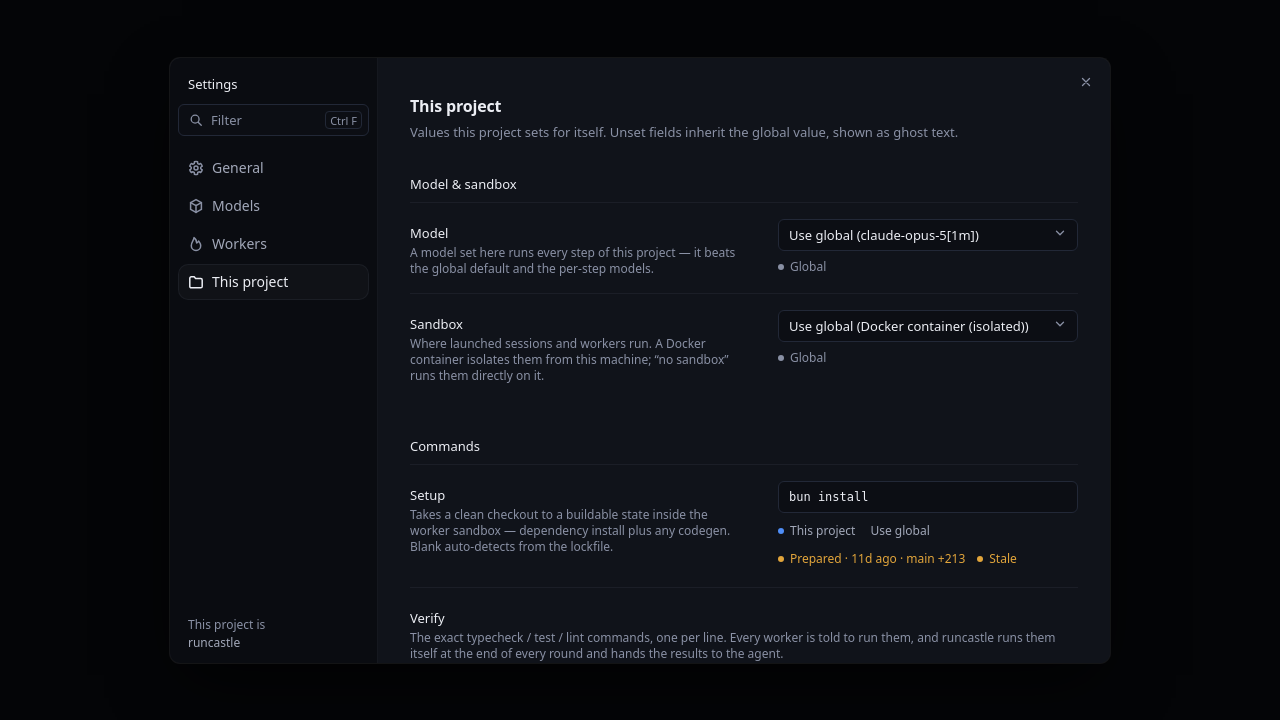
Settings — This project › filters this page and highlights the field a deep link named
Step 1. Type "verify" into the field named "Filter settings" → [264, 120], box x1=211 y1=105 x2=317 y2=135
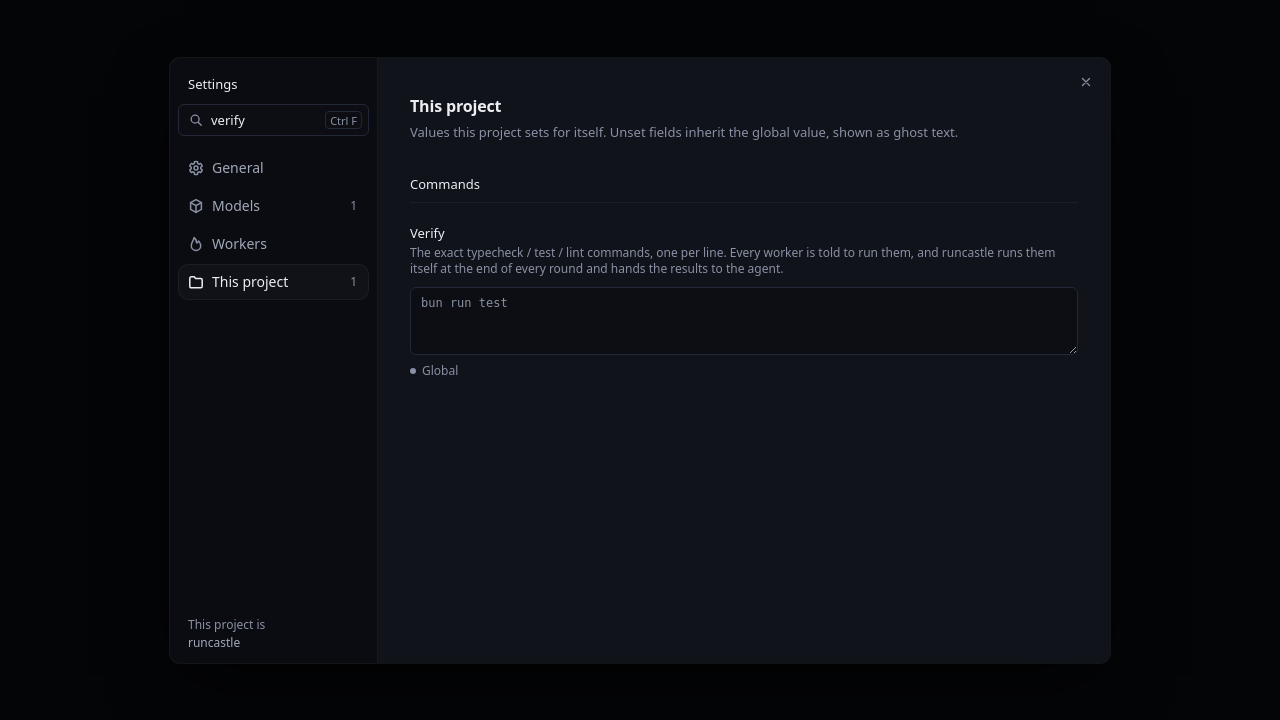
Check: the text box labelled "Verify" is shown, box x1=410 y1=287 x2=1078 y2=355
Check: the label labelled "Setup" is gone
